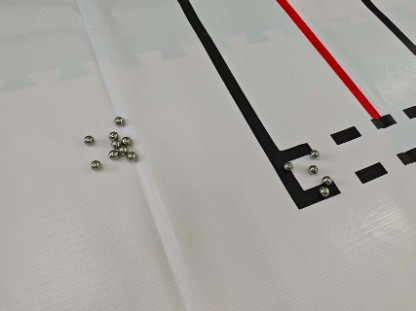ironball: (89, 158, 99, 170), (321, 174, 331, 185), (82, 135, 93, 144), (114, 115, 124, 124), (108, 149, 117, 159), (282, 161, 292, 170), (309, 148, 319, 157), (319, 185, 327, 196), (119, 145, 128, 154), (107, 131, 117, 139), (309, 163, 317, 173), (120, 136, 129, 144), (128, 151, 136, 160), (111, 141, 119, 148)
